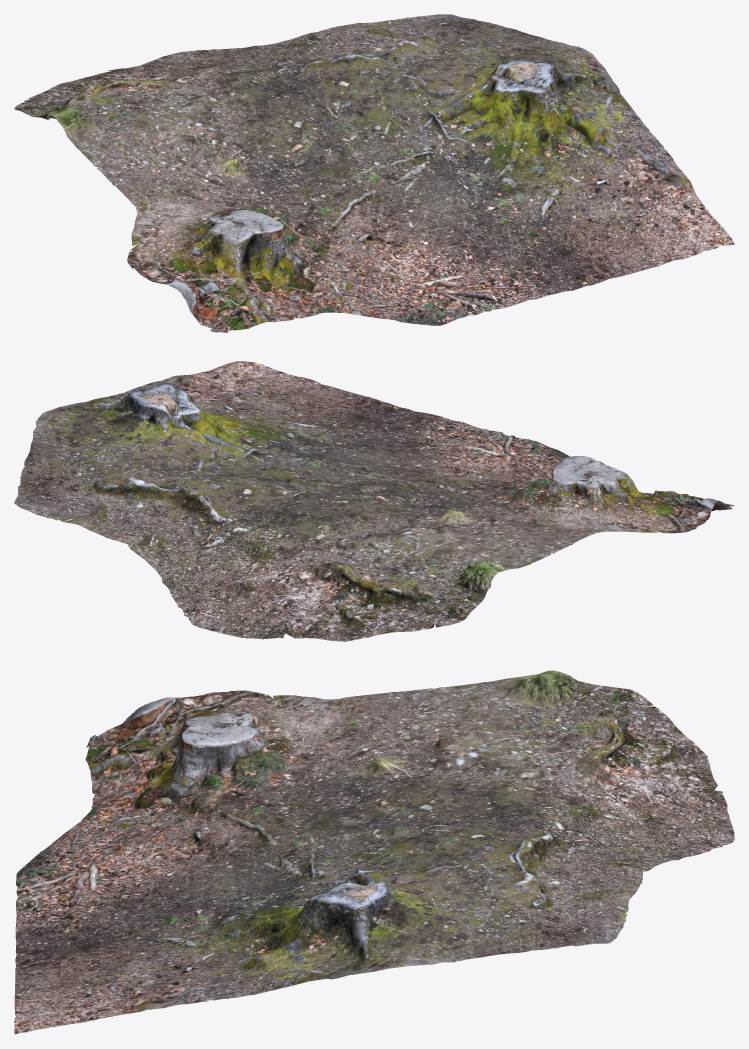
The model's file is sf-scanned-two-trunks-8k-83dcc5.glb.
The picture shows the model from 3 angles, top to bottom: view 1: azimuth 30°, elevation 25°; view 2: azimuth 150°, elevation 25°; view 3: azimuth 270°, elevation 25°; orthographic projection. The views are drawn at different scales.
Visible parts, largest first — view 1: trunk_section_1_material_0_0; view 2: trunk_section_1_material_0_0; view 3: trunk_section_1_material_0_0.
Boxes of the visible parts, left/top/right/bottom form: trunk_section_1_material_0_0: left=14, top=14, right=734, bottom=332; trunk_section_1_material_0_0: left=14, top=361, right=734, bottom=641; trunk_section_1_material_0_0: left=14, top=670, right=734, bottom=1034.
Size of the model in its own units: 318 by 55.75 by 310.
1 material, 1 textured.
